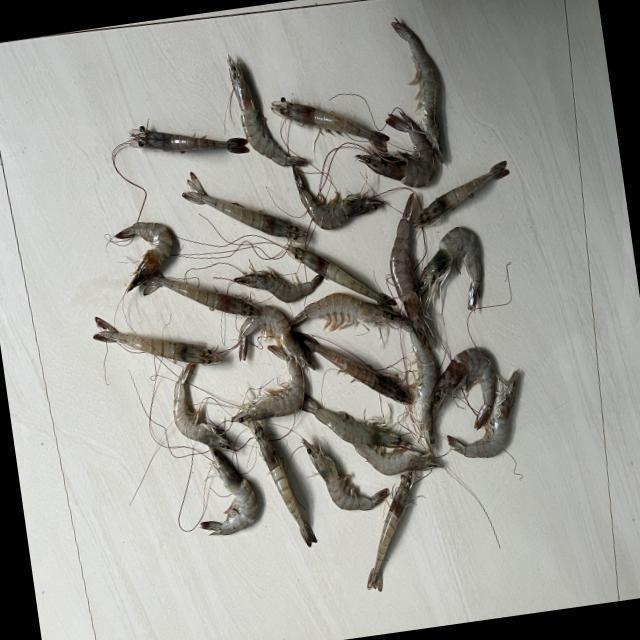shrimp: (227, 56, 308, 166), (248, 421, 317, 548), (182, 172, 306, 242), (296, 334, 412, 405), (392, 17, 444, 163), (287, 245, 397, 306), (271, 97, 389, 152), (302, 439, 389, 512), (448, 372, 521, 459), (416, 160, 510, 227), (93, 317, 221, 365), (357, 110, 436, 187), (293, 167, 384, 230), (390, 193, 428, 343), (173, 364, 237, 452), (301, 397, 411, 448), (141, 271, 260, 318), (367, 473, 414, 592), (419, 227, 482, 311), (433, 349, 498, 430), (201, 447, 257, 537), (238, 306, 316, 370), (231, 359, 304, 424), (401, 322, 439, 446), (289, 293, 408, 332), (114, 222, 172, 293), (129, 126, 249, 153), (234, 268, 324, 303), (355, 445, 444, 476)
